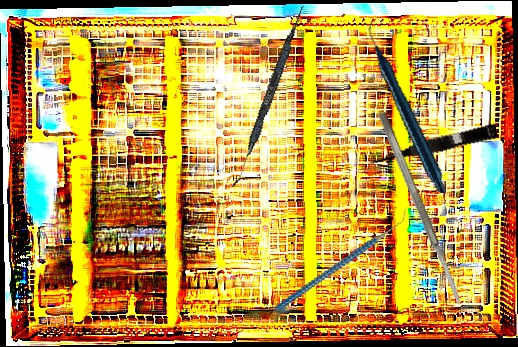Chopper: (259, 206, 426, 311)
Handpiece: (338, 20, 478, 194)
Micro Scissor: (364, 120, 499, 170)
Spatula Surgical: (377, 111, 464, 306), (232, 2, 306, 191)
